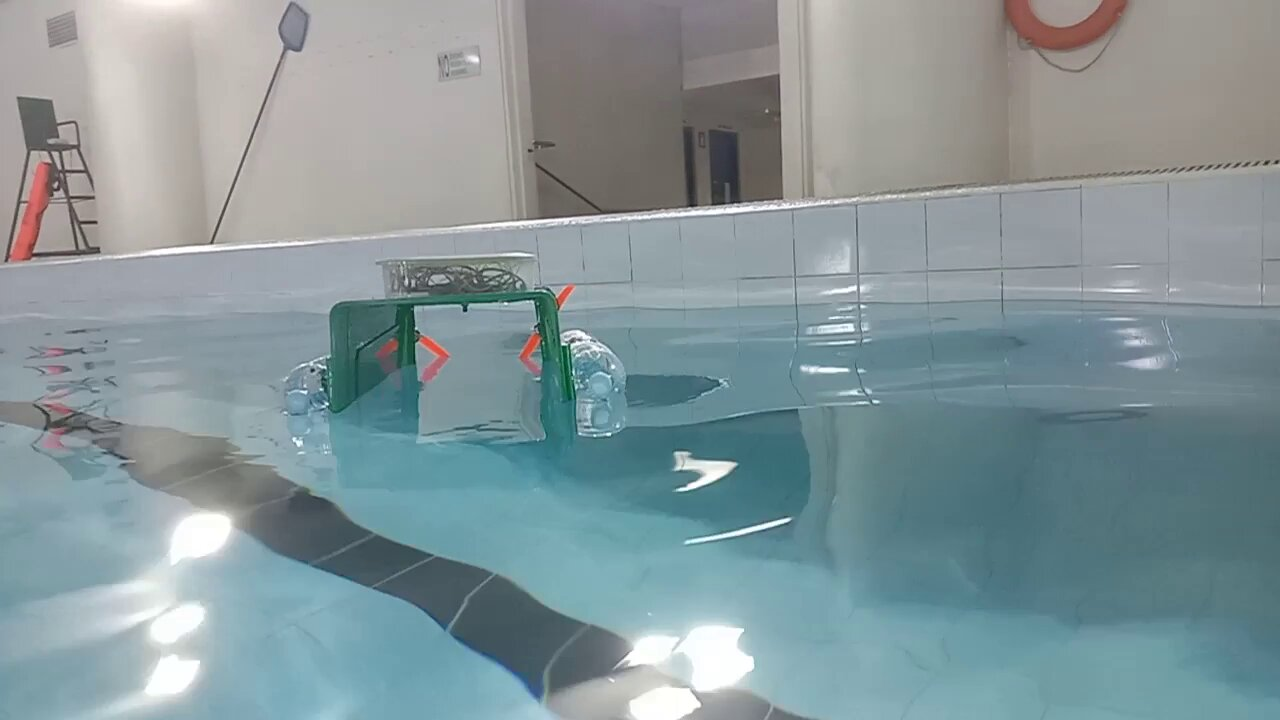drone: (278, 244, 630, 419)
